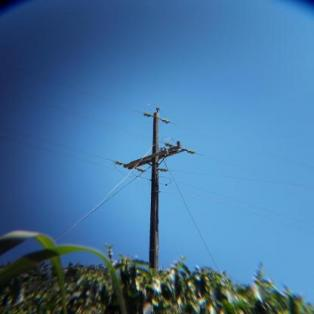Poste: (149, 111, 160, 268)
